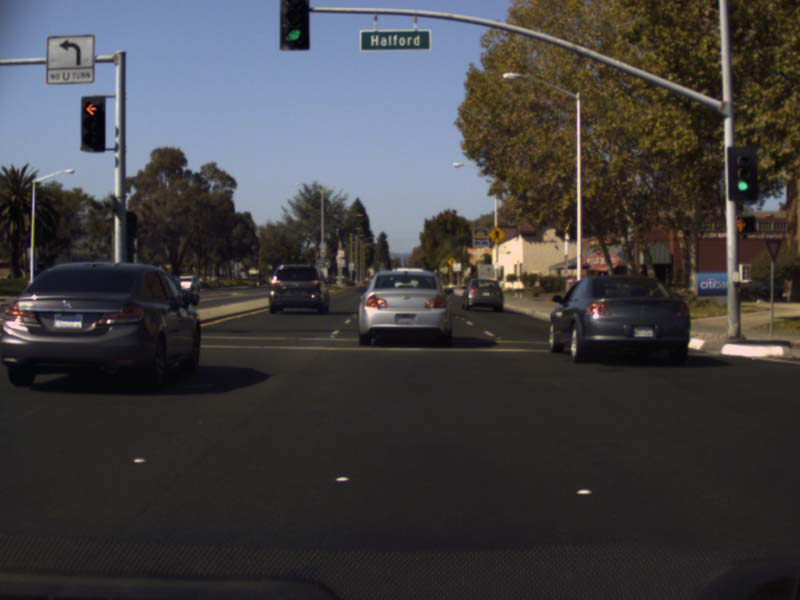Green: (727, 147, 757, 201)
Red: (81, 94, 105, 152)
